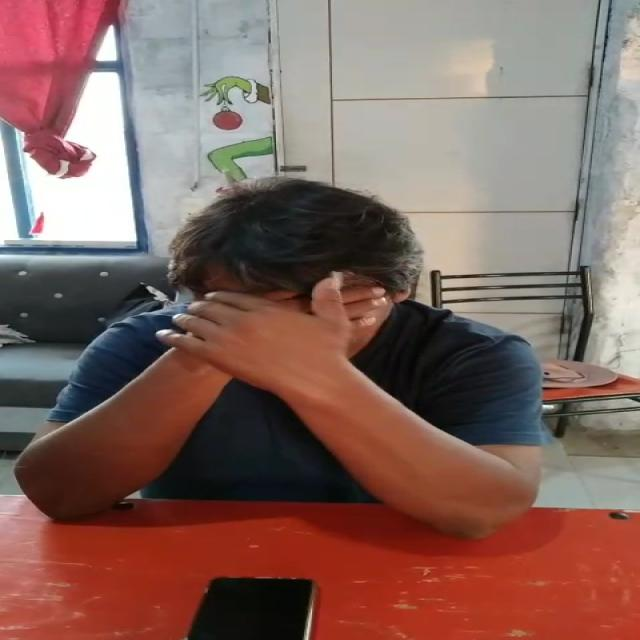7_mano_rostro: (198, 278, 386, 410)
